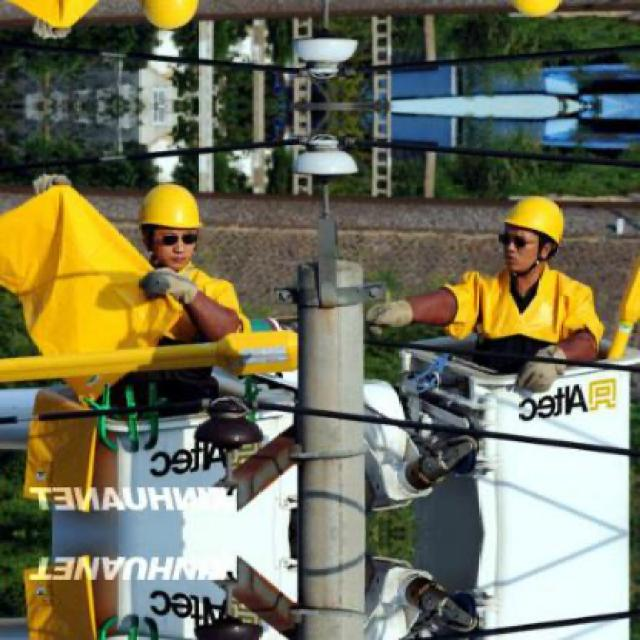helmet: (131, 176, 206, 270), (502, 193, 576, 276), (130, 0, 208, 39), (500, 0, 575, 22)
